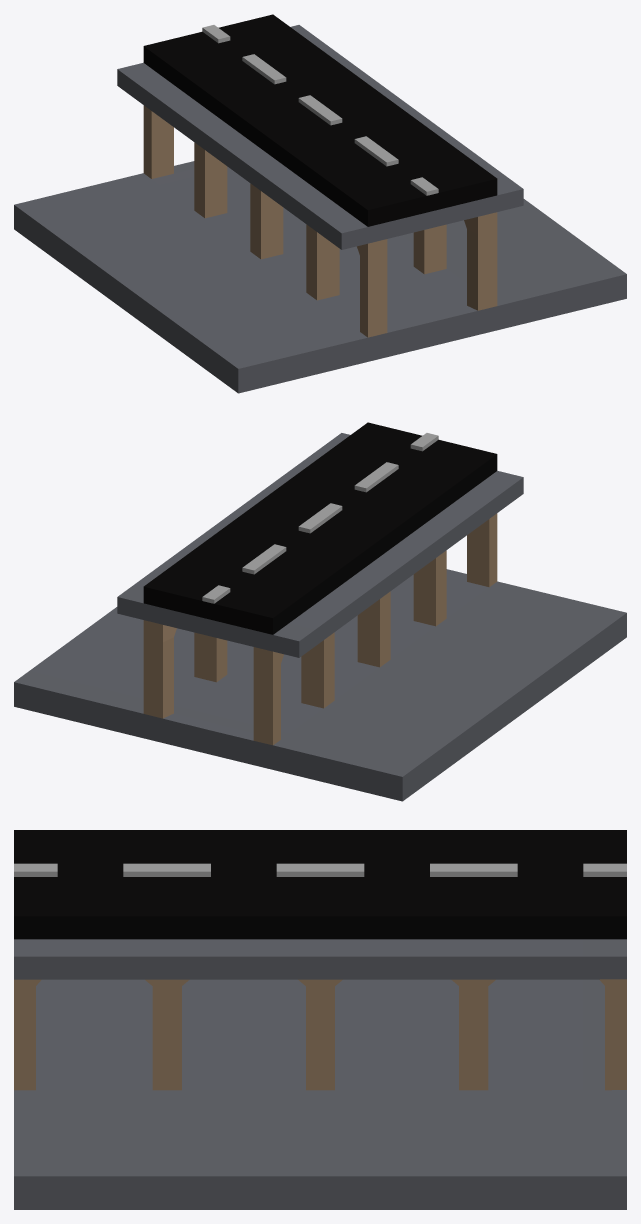
Rendered from Street_Bridge.glb.
3 renders of one model, top to bottom at view 1: azimuth 30°, elevation 25°; view 2: azimuth 150°, elevation 25°; view 3: azimuth 270°, elevation 25°, orthographic. The views are drawn at different scales.
Visible parts, largest first — view 1: Street_Bridge; view 2: Street_Bridge; view 3: Street_Bridge.
Boxes of the visible parts, x1,y1,x2,y2 form: Street_Bridge: (14, 14, 626, 393); Street_Bridge: (14, 422, 626, 801); Street_Bridge: (14, 830, 626, 1209).
Size of the model in its own units: 2 by 0.7659 by 2.
